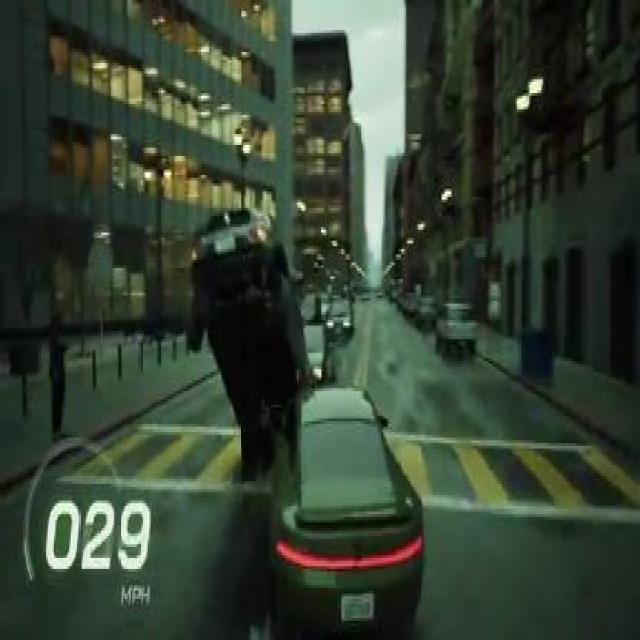accident: (183, 205, 429, 640)
